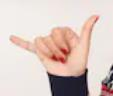clockwise: (6, 11, 101, 68)
